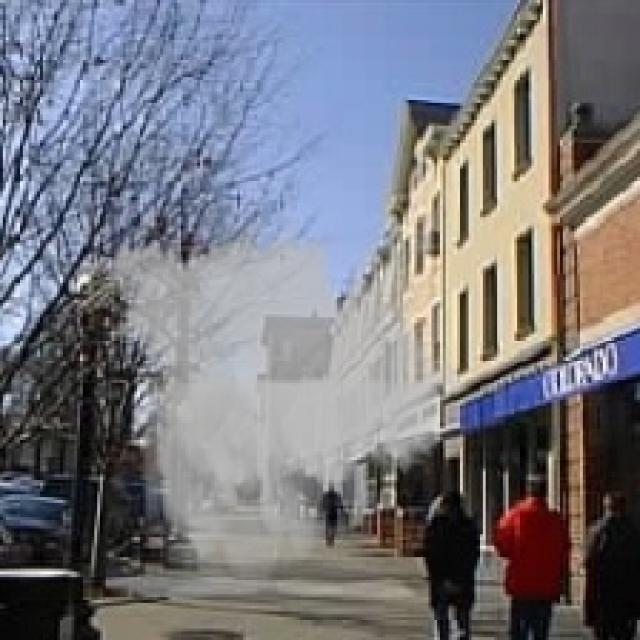smoke: (86, 217, 471, 592)
